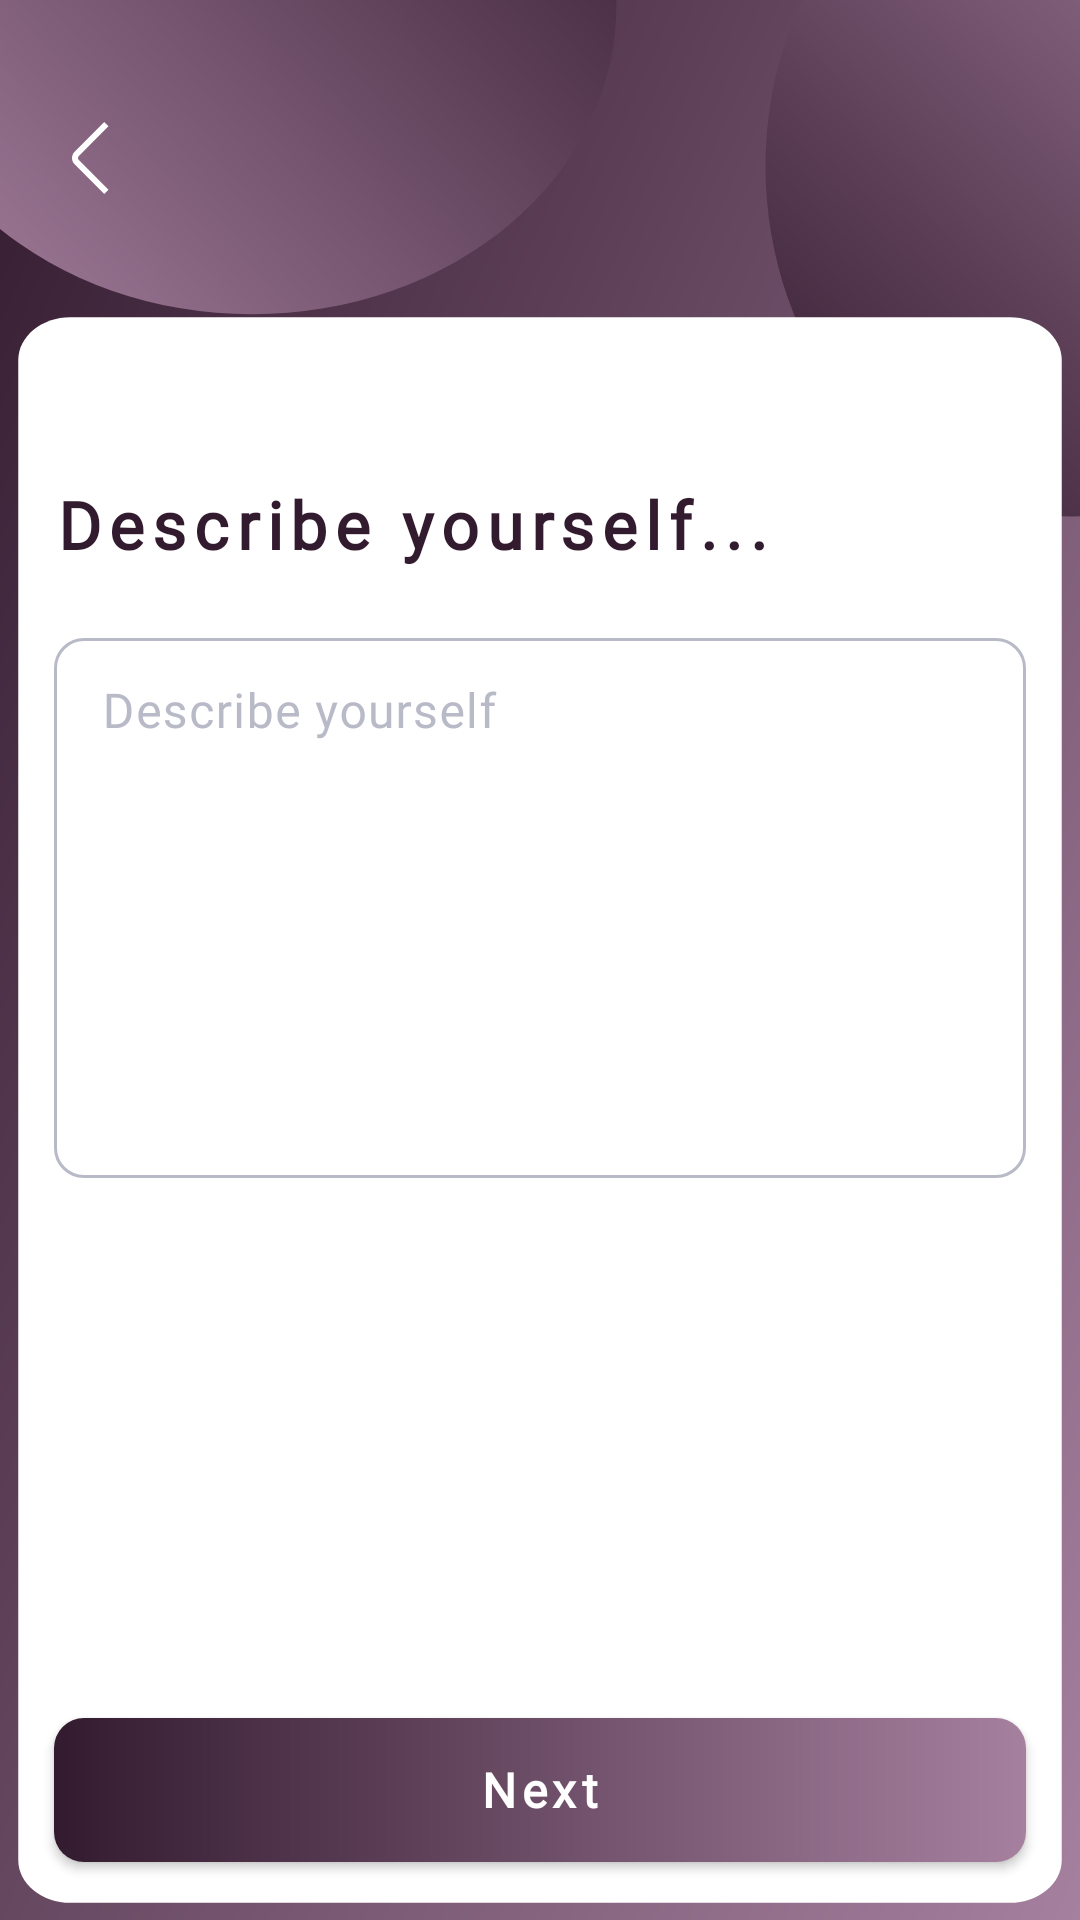

Screen size 1080w x 1920h. Icon name, then its center in pixels as (x=x, y=y):
back arrow: (x=90, y=158)
